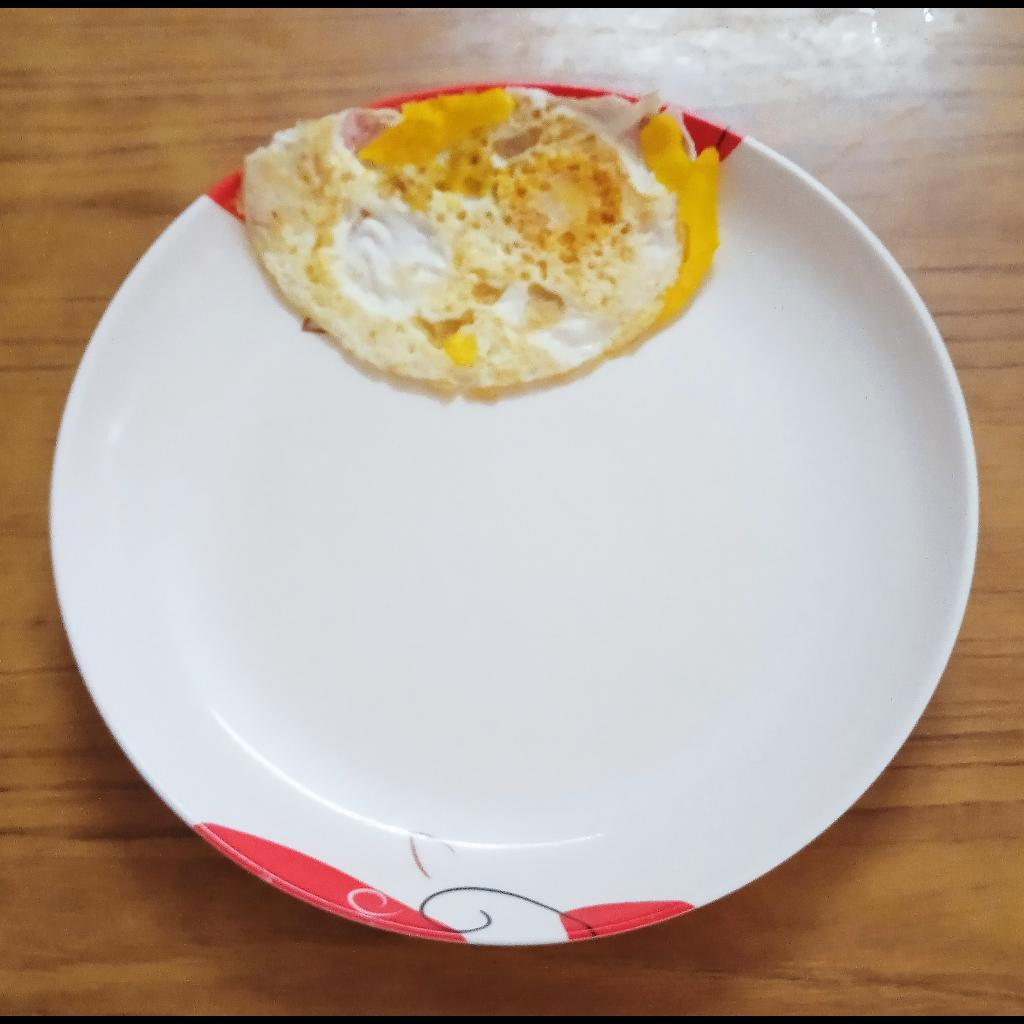egg-poached: (237, 87, 724, 396)
